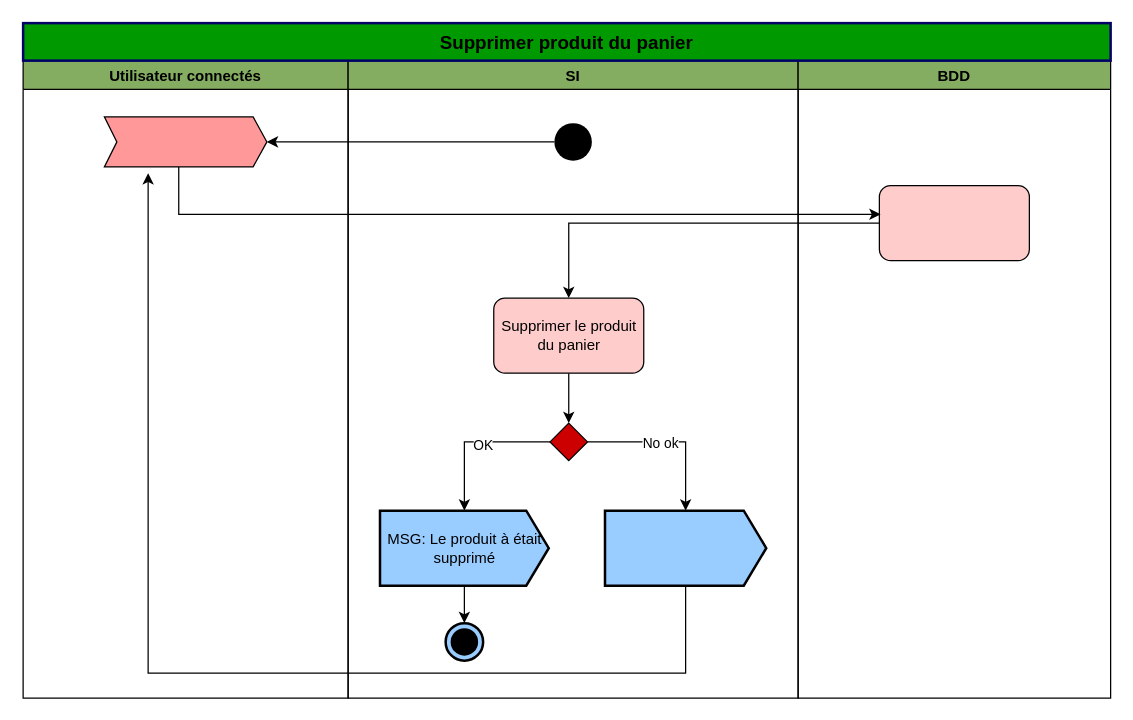
Some shapes in this 1133 by 720 pixel diagram are drawn without their labels. The shapes that lost their labels are listed below. From the top down, each one's centre as x and y in pixels, then its label:
At [185,141]: "Cliquer sur Supprimer un produit du panier".
At [953,222]: "Exécuter requête de suppression".
At [685,547]: "MSG: le produit n'a pas pu être supprimé".
